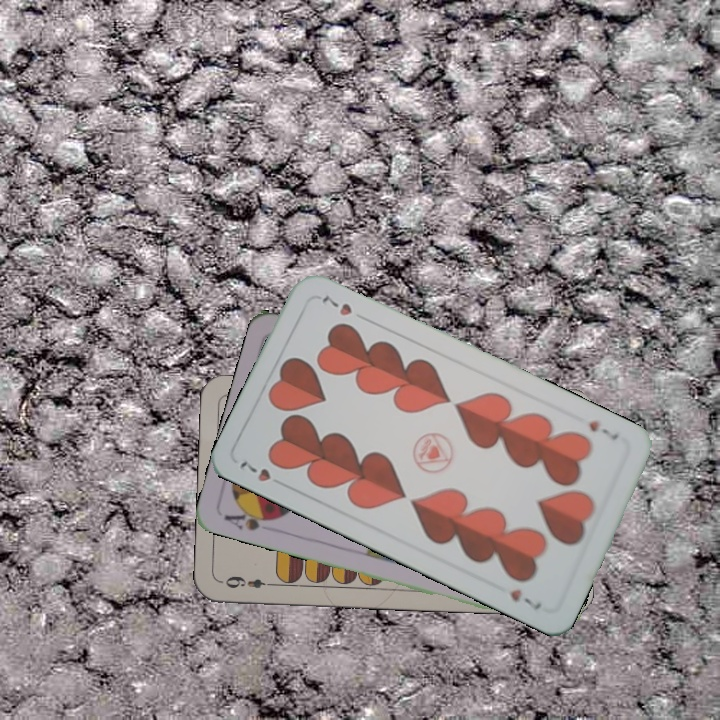E9: (218, 571, 277, 591)
H7: (235, 457, 289, 488), (584, 415, 621, 443)
SA: (220, 504, 280, 533)
